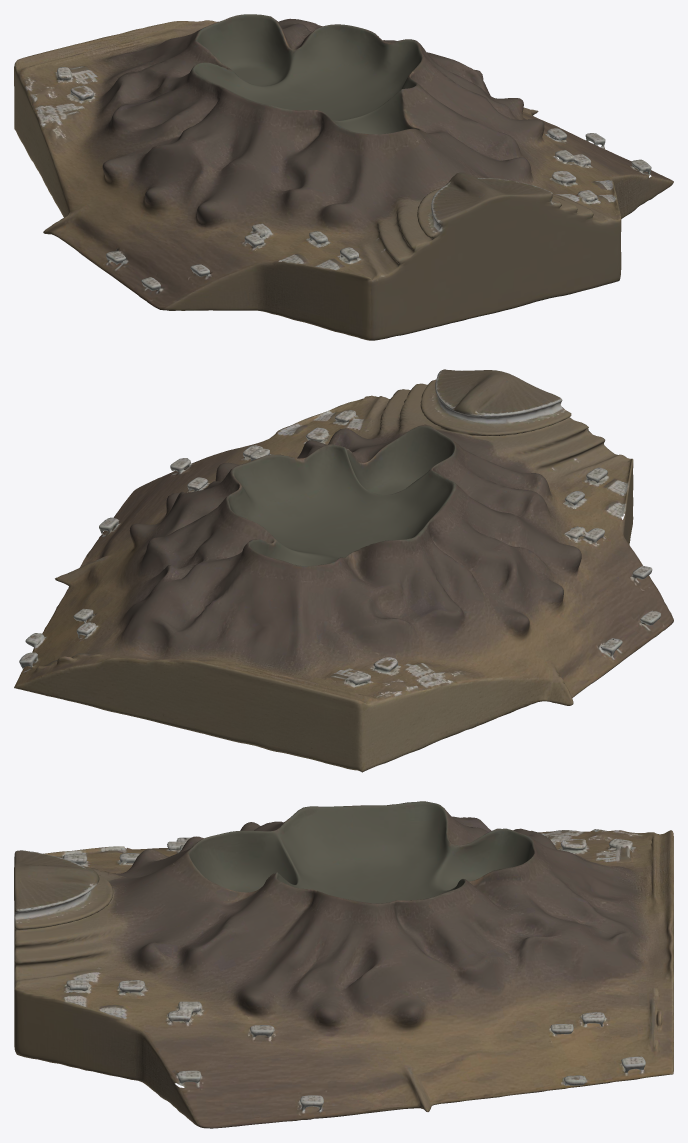
File: jabal-ayr.glb
The picture shows the model from 3 angles, top to bottom: view 1: azimuth 30°, elevation 25°; view 2: azimuth 150°, elevation 25°; view 3: azimuth 270°, elevation 25°; orthographic projection. The views are drawn at different scales.
Visible parts, largest first — view 1: tripo_node_4f5149d8; view 2: tripo_node_4f5149d8; view 3: tripo_node_4f5149d8.
Boxes of the visible parts, x1,y1,x2,y2 form: tripo_node_4f5149d8: [14, 14, 673, 340]; tripo_node_4f5149d8: [14, 369, 673, 772]; tripo_node_4f5149d8: [14, 801, 673, 1128].
Size of the model in its own units: 95.7 by 22.67 by 97.93.
1 material, 1 textured.
